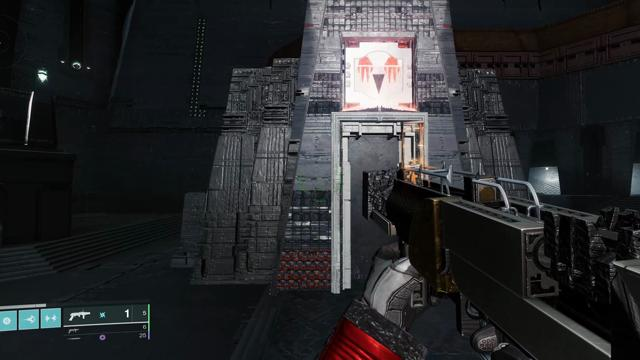give: (354, 51, 403, 99)
